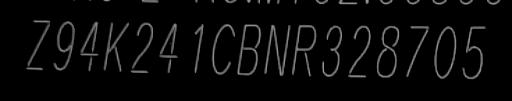letter: (460, 23, 490, 82), (101, 17, 131, 74), (126, 19, 156, 76), (209, 20, 239, 77), (288, 21, 318, 78), (261, 22, 291, 79), (404, 23, 432, 84), (24, 15, 52, 72), (234, 20, 262, 77), (344, 22, 372, 79), (432, 22, 458, 81), (156, 20, 182, 77), (374, 22, 400, 79), (318, 23, 344, 80), (50, 17, 76, 72), (78, 17, 102, 74), (189, 20, 205, 75)
